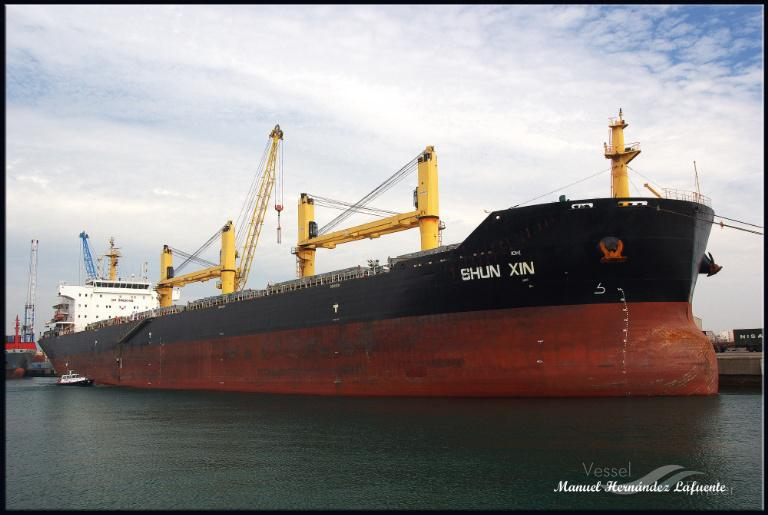OCR: (445, 258, 548, 288)
